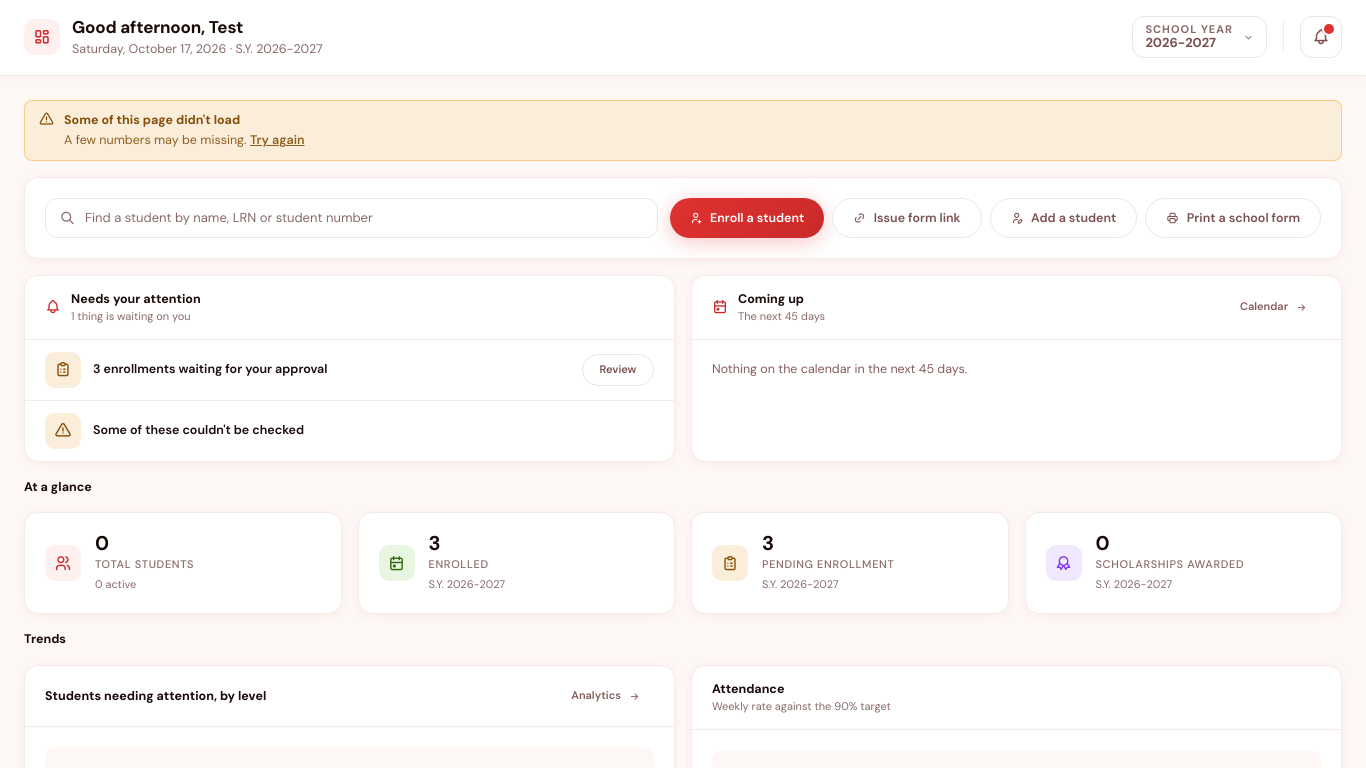
Test case: DashboardPage — notifications by role › says when a count didn't load, rather than passing over it
The width and height of the screenshot is (1366, 768).
Click the button named "Notifications": [1321, 37] box [1300,16,1342,58]
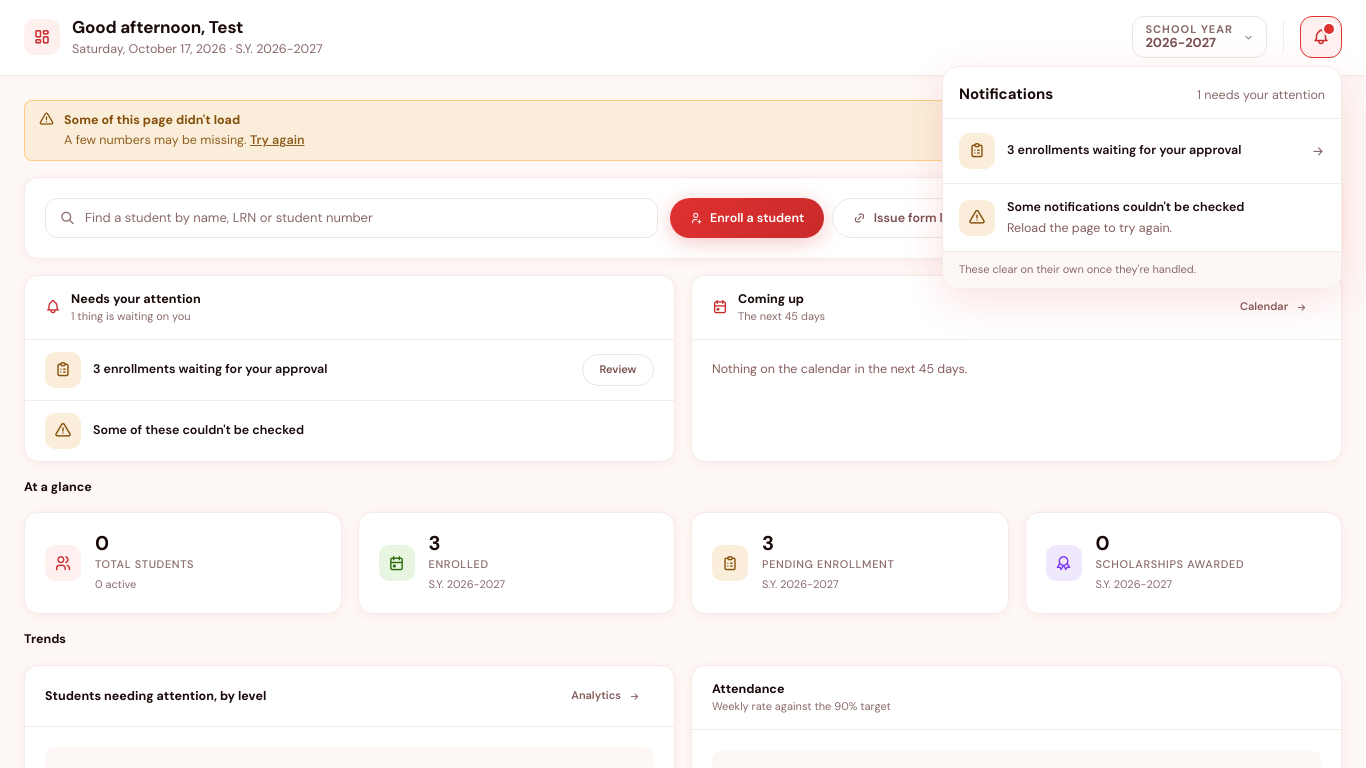
Check: the link "3 enrollments waiting for your approval" is shown, box [959,133,1325,169]
Check: the text "Some notifications couldn't be checked" is shown, box [1007,199,1244,215]
